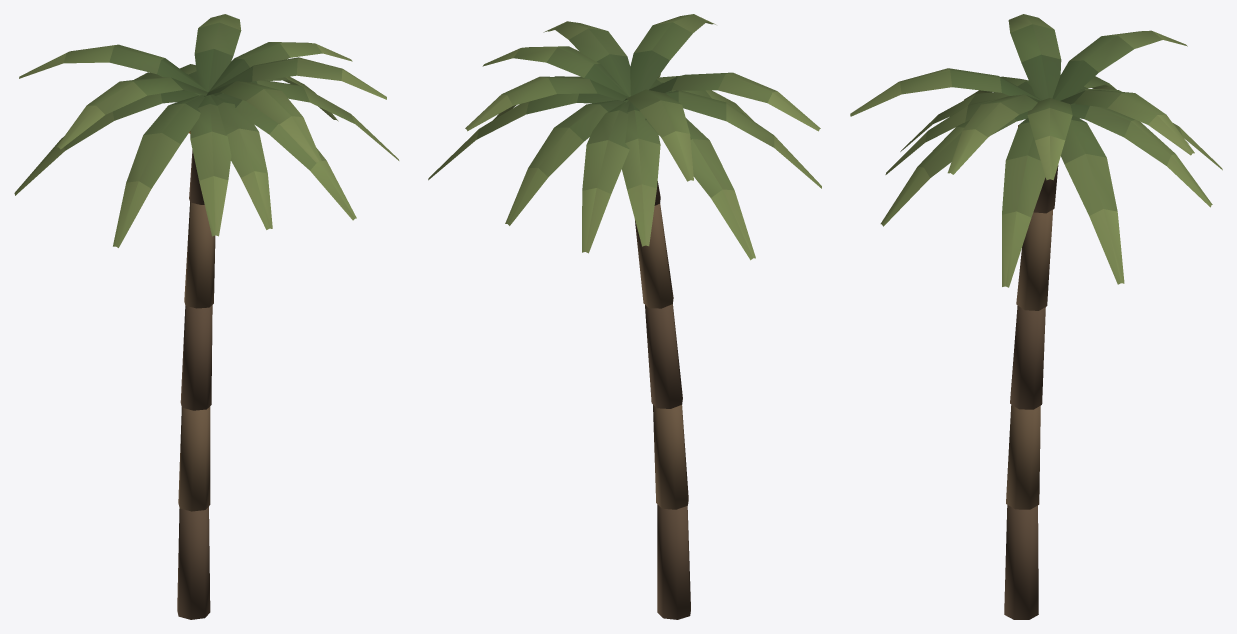
Rendered from env_date_palm.glb.
3 views of the same model, side by side, from view 1: azimuth 30°, elevation 25°; view 2: azimuth 150°, elevation 25°; view 3: azimuth 270°, elevation 25° (orthographic). The views are drawn at different scales.
Parts seen in each view (by area): view 1: env_date_palm; view 2: env_date_palm; view 3: env_date_palm.
Boxes of the visible parts, left/top/right/bottom form: env_date_palm: left=14, top=14, right=399, bottom=619; env_date_palm: left=428, top=14, right=821, bottom=619; env_date_palm: left=850, top=14, right=1222, bottom=619.
Bounding box in the file's own units: 7.9 × 12.13 × 7.3.
